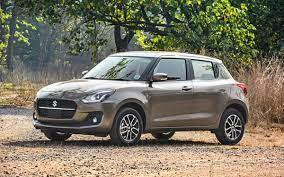Hatchback: (32, 51, 252, 146)
